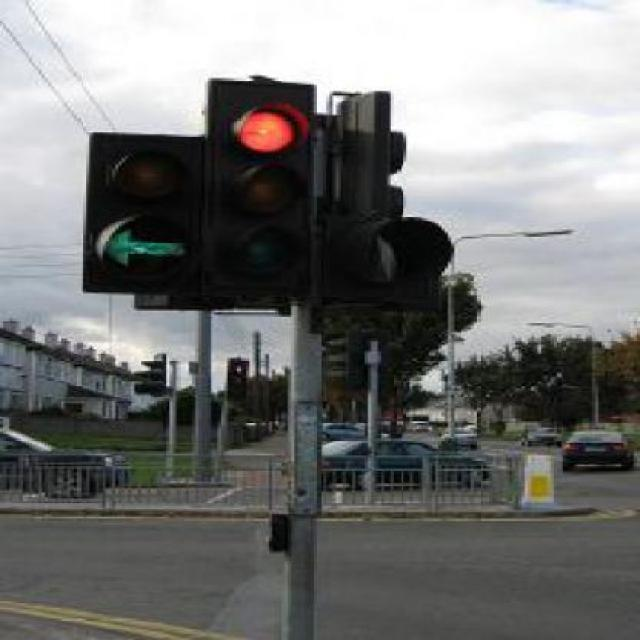red_light: (184, 65, 332, 302)
